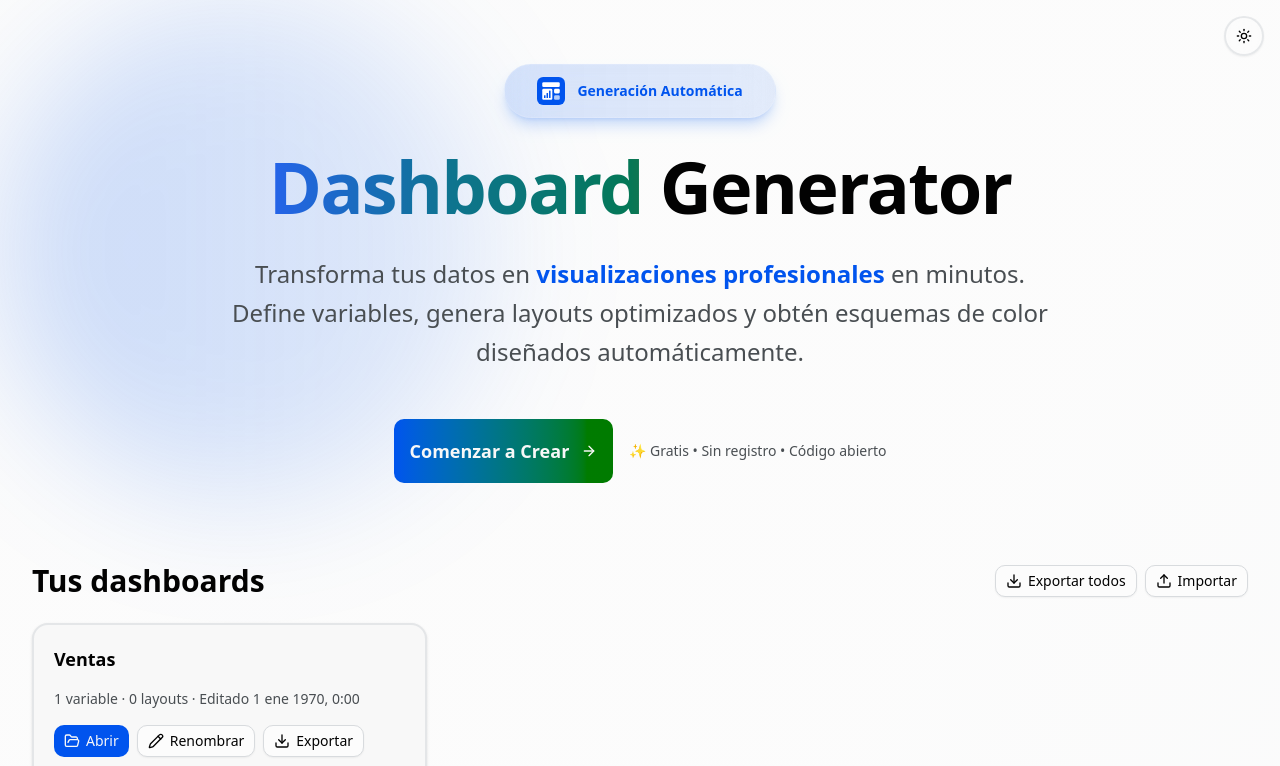
saved dashboards on the landing › renames with Enter and cancels with Escape
The width and height of the screenshot is (1280, 766).
Step 1. Click the button with aria-label "Renombrar Ventas" → (196, 741), box [137,725,255,757]
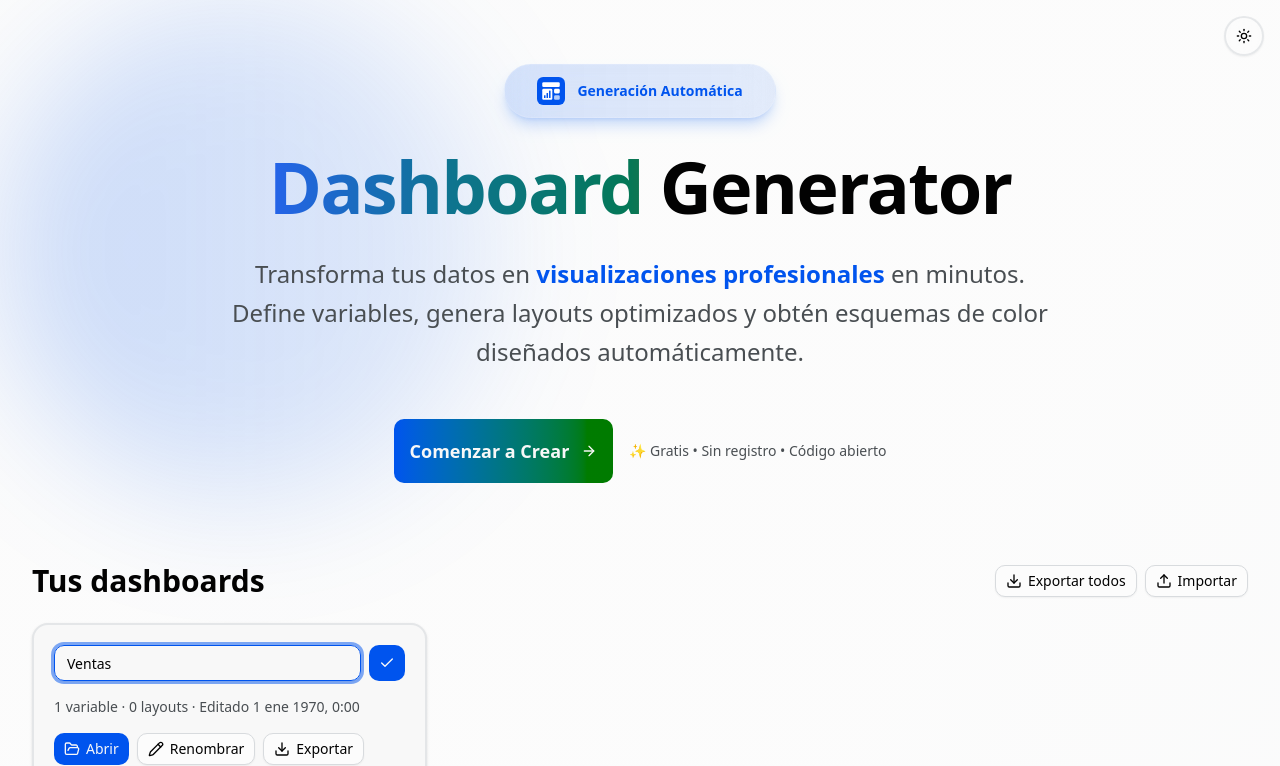
Step 2. Replace the text in the field named "Nuevo nombre para Ventas" with "Ventas Q1" → (207, 663), box [54,645,361,681]
Then press Enter
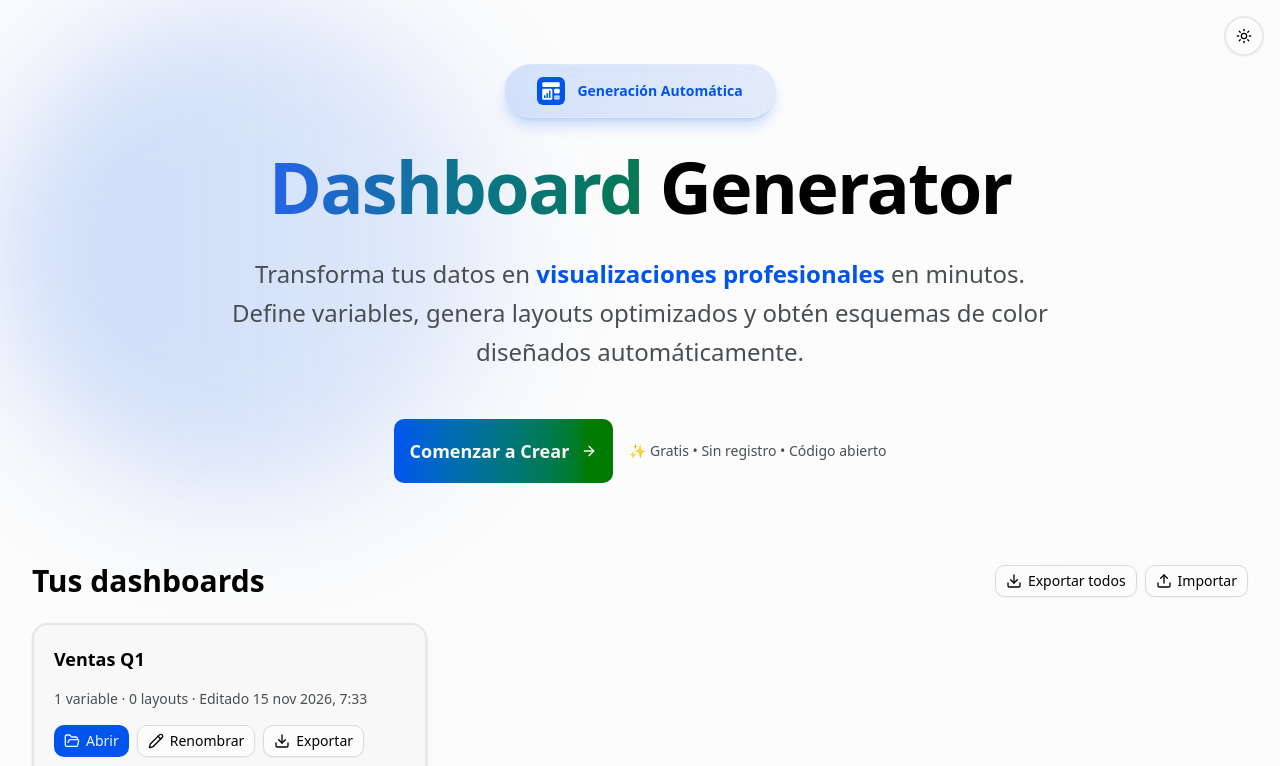
Expected: the heading "Ventas Q1" is shown, [54,647,145,671]
Step 3. Click the button with aria-label "Renombrar Ventas Q1" → (196, 741), box [137,725,255,757]
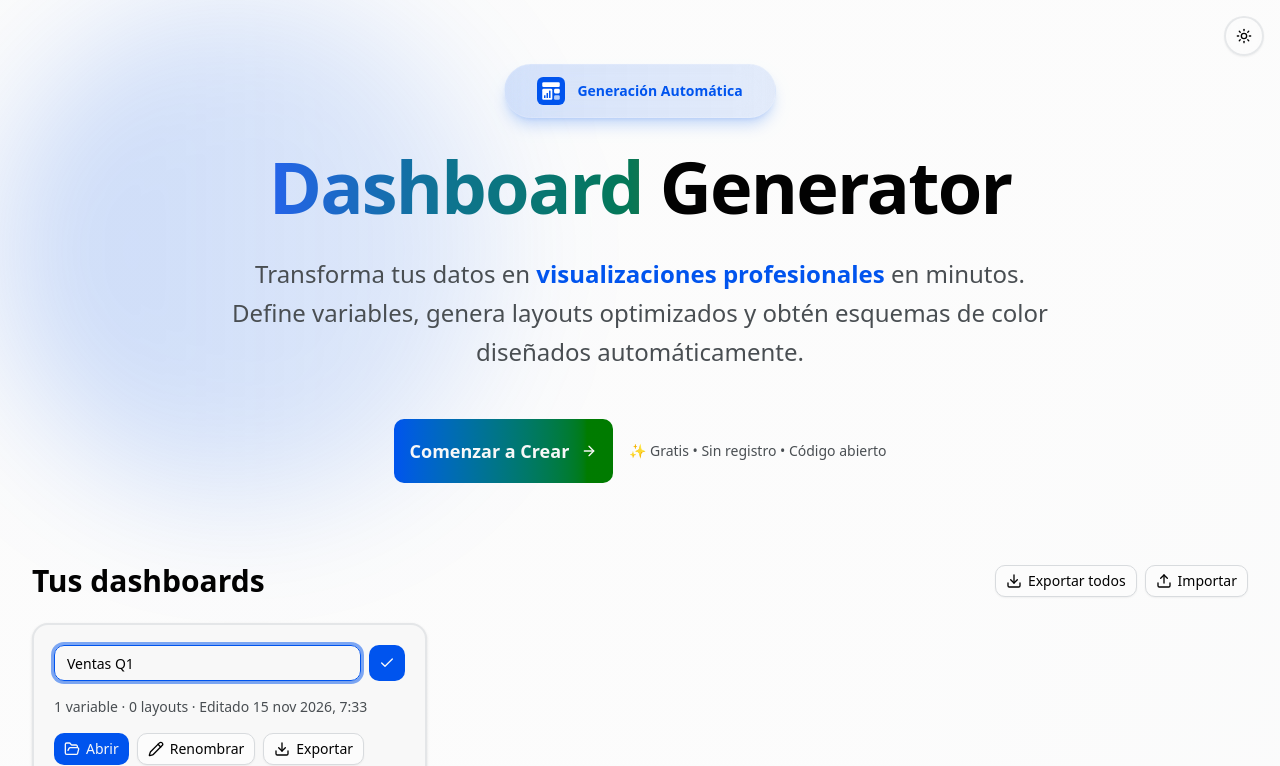
Step 4. Type " cambiado" into the field named "Nuevo nombre para Ventas Q1" → (207, 663), box [54,645,361,681]
Then press Escape
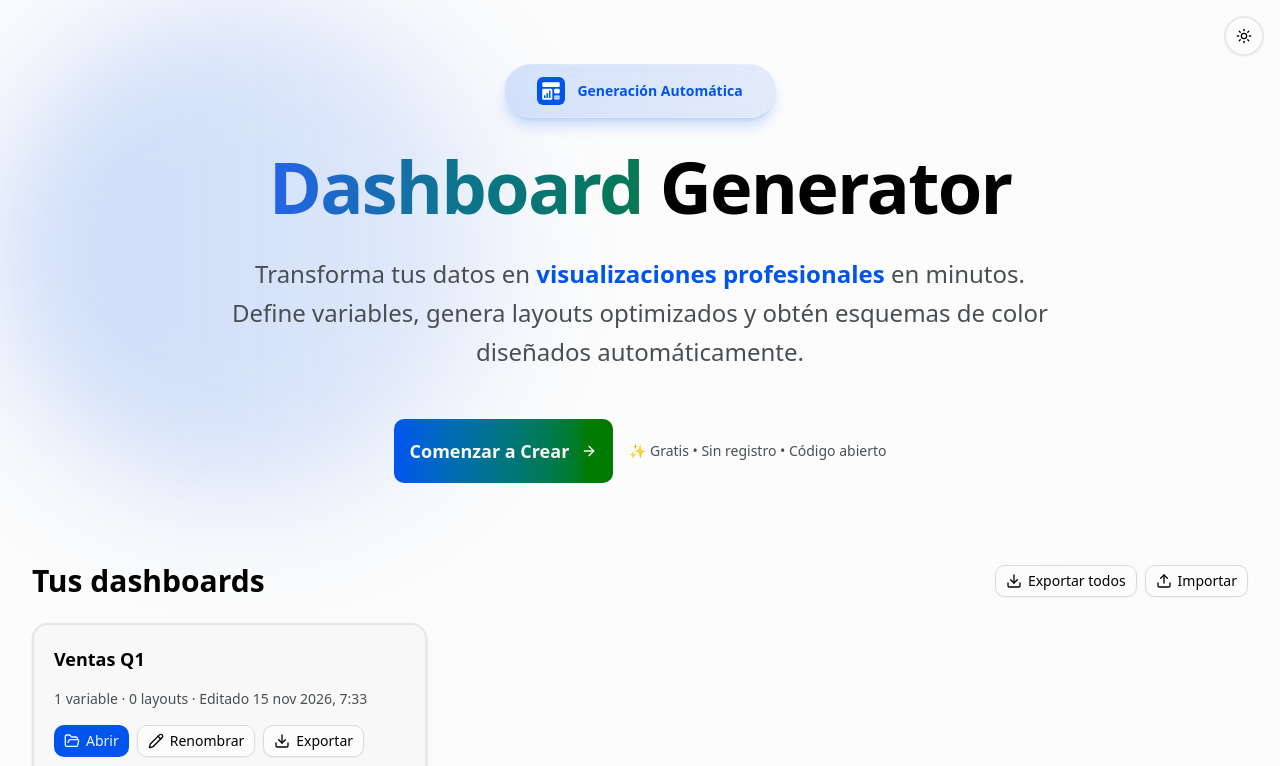
Expected: the heading "Ventas Q1" is shown, [54,647,145,671]
